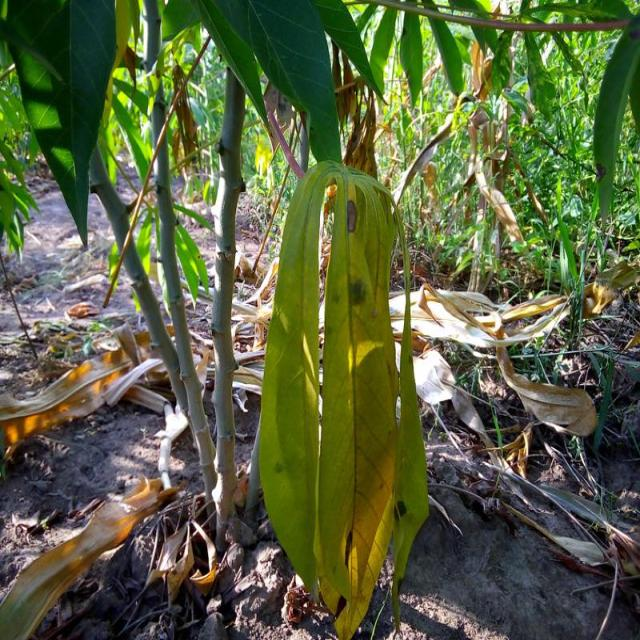cassava leaf: (258, 158, 403, 638), (0, 0, 117, 247)
